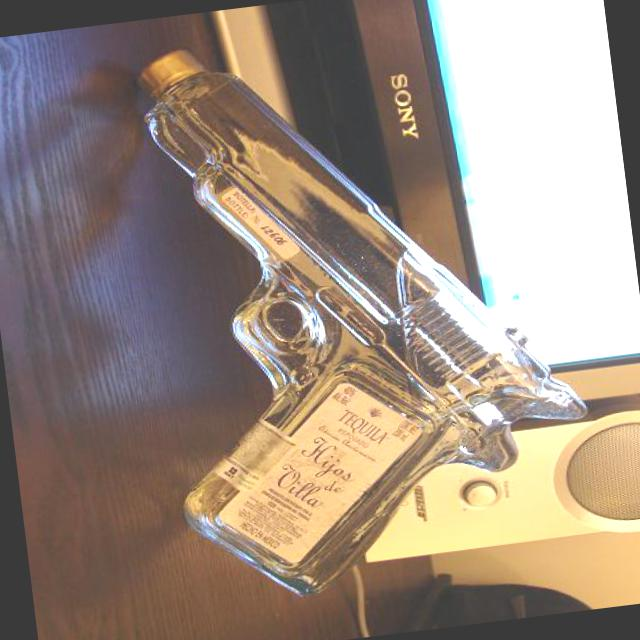handgun: (124, 1, 606, 606)
